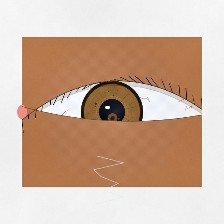foreign_body_visible: (100, 108, 125, 128)
